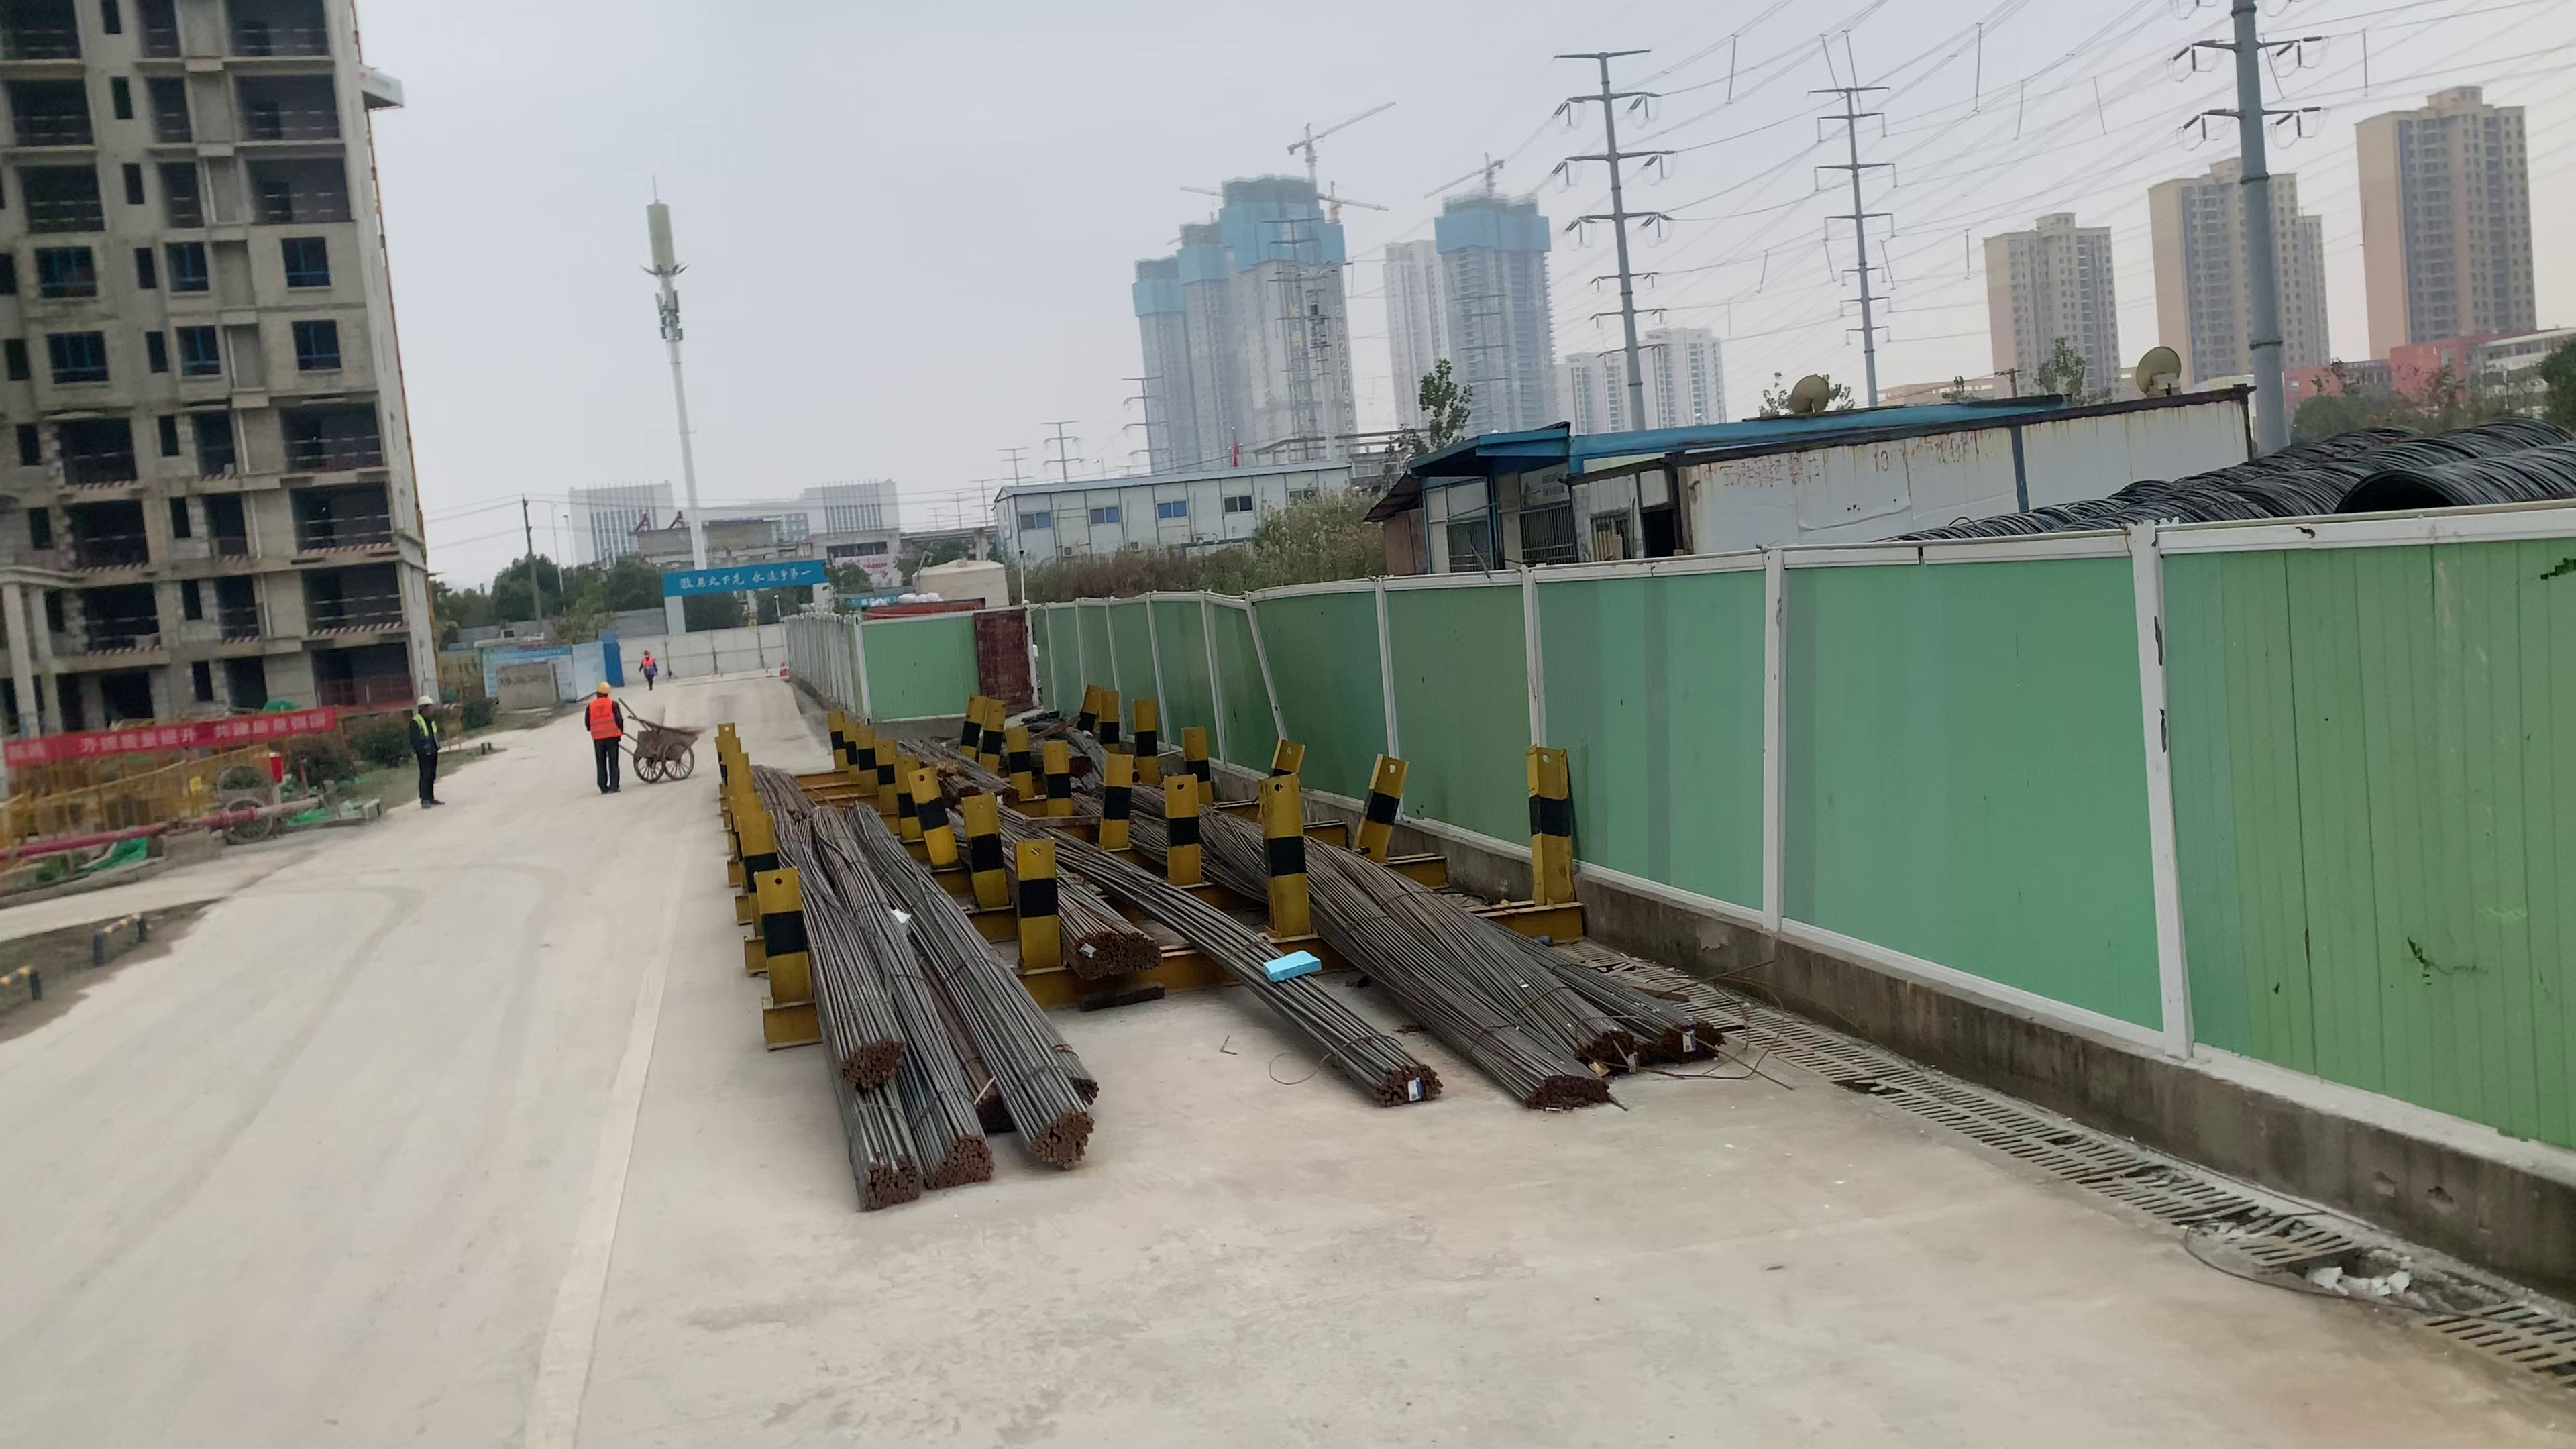rebar: (1030, 1113, 1090, 1171), (856, 1152, 922, 1205), (1576, 1024, 1647, 1072), (1640, 1024, 1725, 1063), (1371, 1062, 1440, 1109), (840, 1037, 904, 1085), (932, 1143, 996, 1191), (1525, 1072, 1610, 1108), (1070, 931, 1122, 989), (975, 1083, 1016, 1125), (1122, 932, 1159, 975), (1072, 1072, 1099, 1104)
